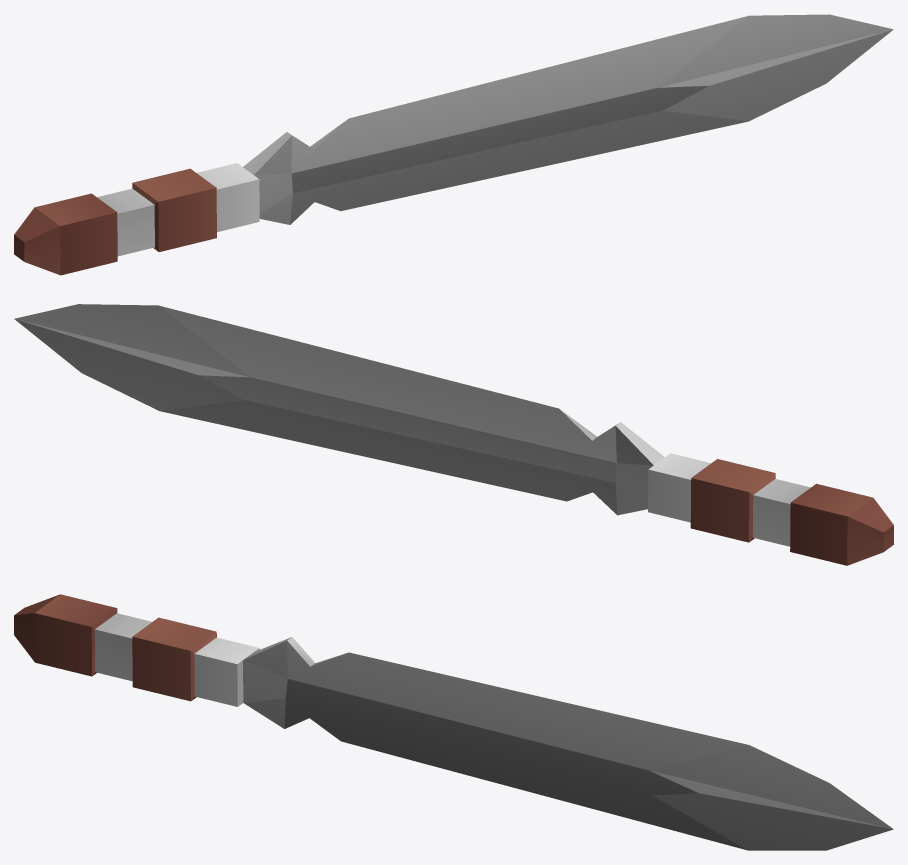
File: Pedang_0.fbx
3 renders of one model, top to bottom at view 1: azimuth 30°, elevation 25°; view 2: azimuth 150°, elevation 25°; view 3: azimuth 330°, elevation 25°, orthographic.
Parts seen in each view (by area): view 1: Dull blade; view 2: Dull blade; view 3: Dull blade.
Boxes of the visible parts, x1,y1,x2,y2 form: Dull blade: (14, 14, 893, 275); Dull blade: (14, 304, 893, 565); Dull blade: (14, 594, 893, 850).
Size of the model in its own units: 276 by 31.89 by 14.36.
